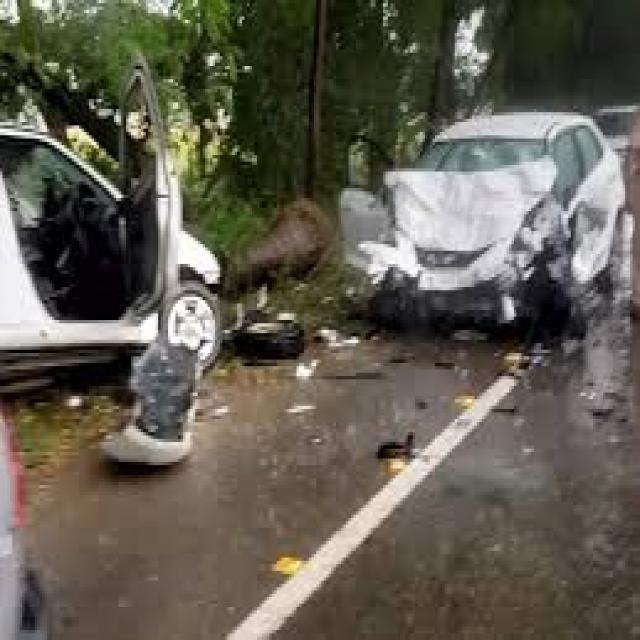accident: (18, 52, 598, 407), (342, 90, 619, 347)
